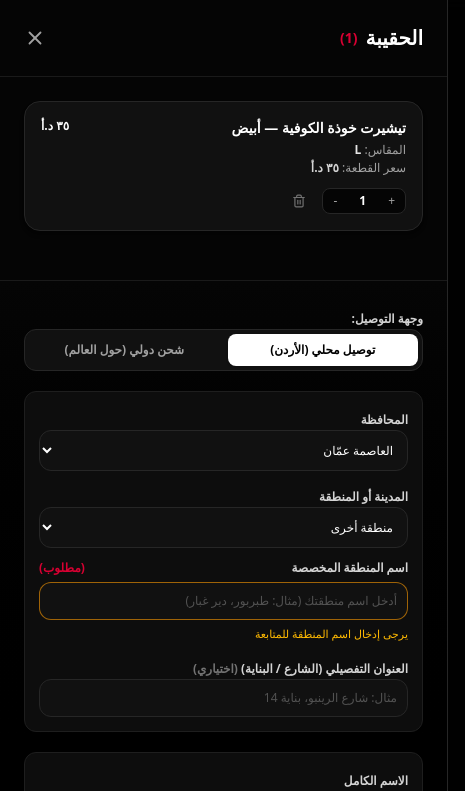
Test: Launch Refinements & Truthful Experience Suite › 6. Isolated Destination State (Local vs International) › requires custom area input when "منطقة أخرى" is selected and blocks checkout until filled
// Fill custom area name
Type "طبربور - حي الشهيد" into the field with placeholder "أدخل اسم منطقتك (مثال: طبربور، دير غبار)". click: (224,601)
box: left=39, top=582, right=408, bottom=620
(page scrolled)
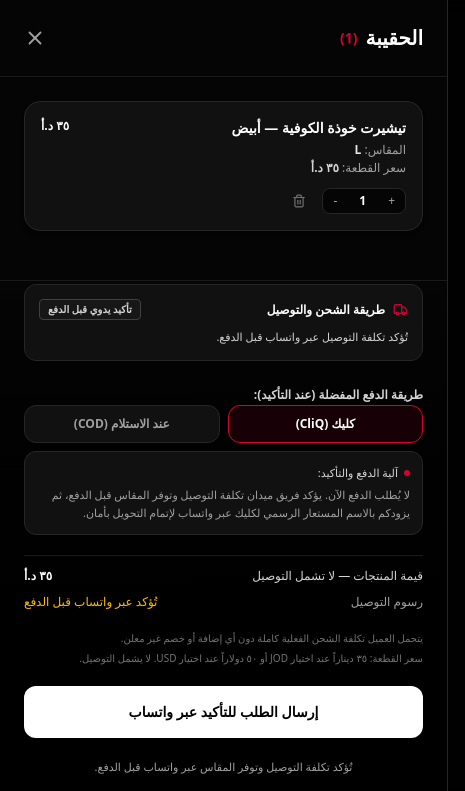
Now the link "إرسال الطلب للتأكيد عبر واتساب" is shown, box left=24, top=686, right=423, bottom=738
